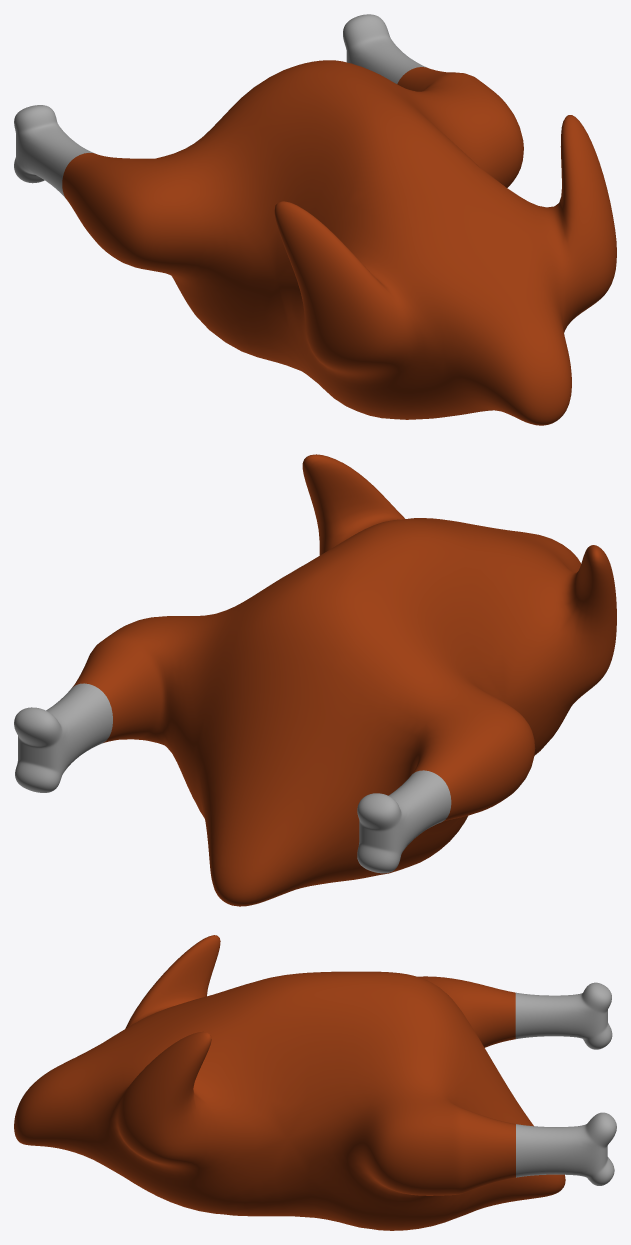
The model's file is muertoelpollo.obj.
3 views of the same model, one above another, from view 1: azimuth 30°, elevation 25°; view 2: azimuth 150°, elevation 25°; view 3: azimuth 270°, elevation 25° (orthographic). The views are drawn at different scales.
Visible parts, largest first — view 1: Cube; view 2: Cube; view 3: Cube.
Boxes of the visible parts, bbox=[...] form: Cube: bbox=[14, 14, 616, 425]; Cube: bbox=[14, 454, 616, 906]; Cube: bbox=[14, 935, 616, 1230].
Size of the model in its own units: 3.28 by 2.14 by 5.04.
